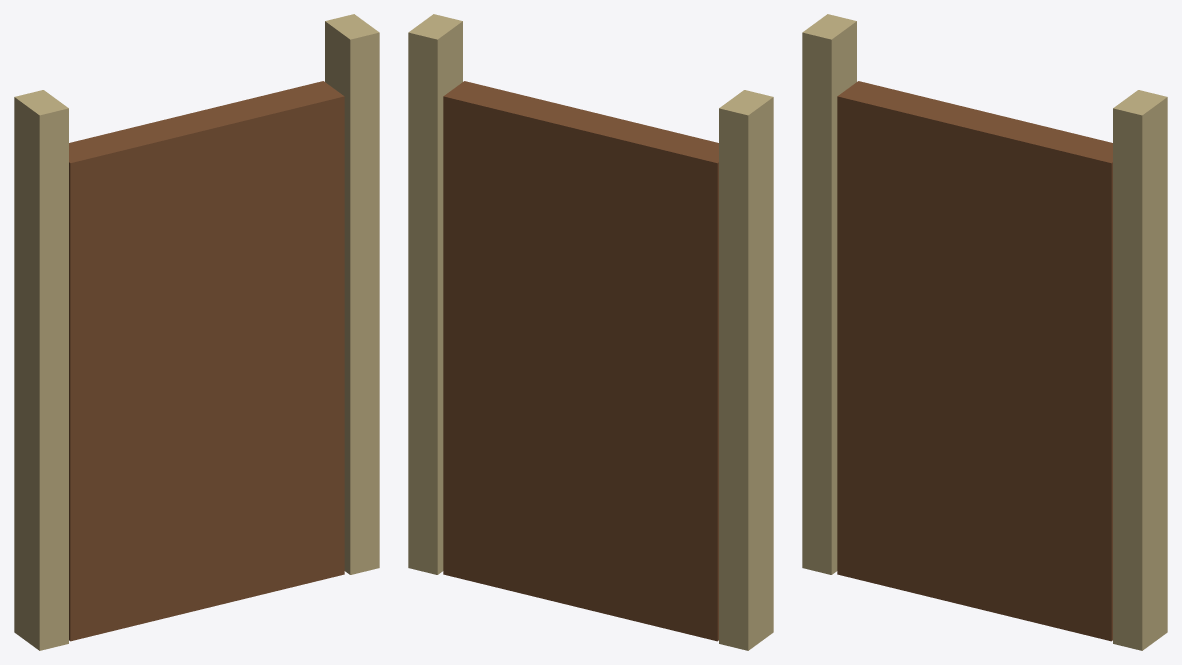
The model's file is door_frame.glb.
3 views of the same model, side by side, from view 1: azimuth 30°, elevation 25°; view 2: azimuth 150°, elevation 25°; view 3: azimuth 330°, elevation 25° (orthographic).
Parts seen in each view (by area): view 1: door, frame_-085, frame_085; view 2: door, frame_-085, frame_085; view 3: door, frame_085, frame_-085.
Part boxes in pixels (<box>): door: <box>69,81,344,641</box>; frame_-085: <box>14,90,68,650</box>; frame_085: <box>325,14,379,574</box>; door: <box>443,81,718,641</box>; frame_-085: <box>719,90,773,650</box>; frame_085: <box>408,14,462,574</box>; door: <box>837,81,1112,641</box>; frame_085: <box>1113,90,1167,650</box>; frame_-085: <box>802,14,856,574</box>.
Size of what is drawn, in the model's own units: 1.86 by 2.8 by 0.24.
